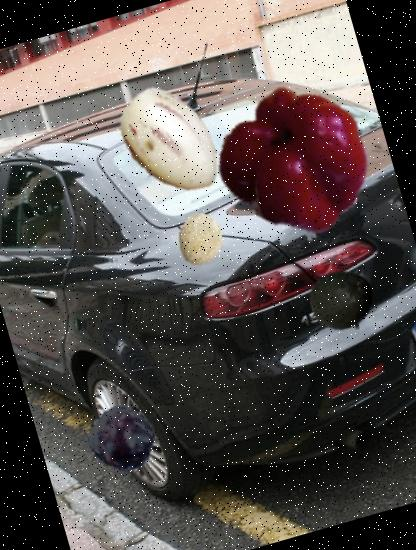Avocado: (303, 262, 383, 342)
Cantaloupe: (168, 206, 233, 272)
Dates: (82, 397, 164, 479)
Pepino: (96, 68, 243, 216)
Pepper: (204, 67, 388, 250)
